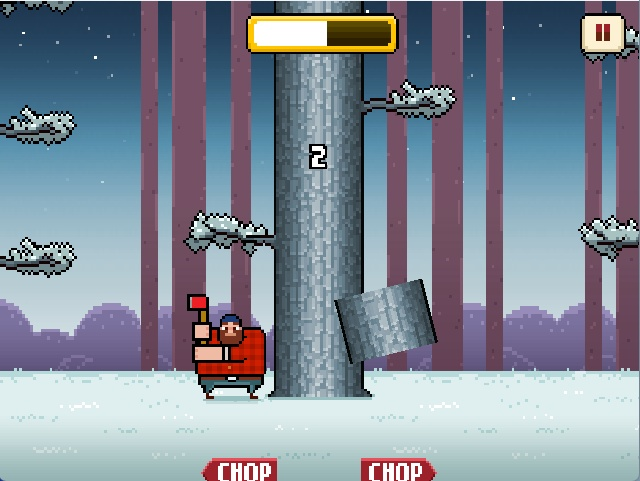left_obs: (180, 205, 291, 269)
right_obs: (359, 78, 462, 132)
timberman: (173, 290, 278, 403)
